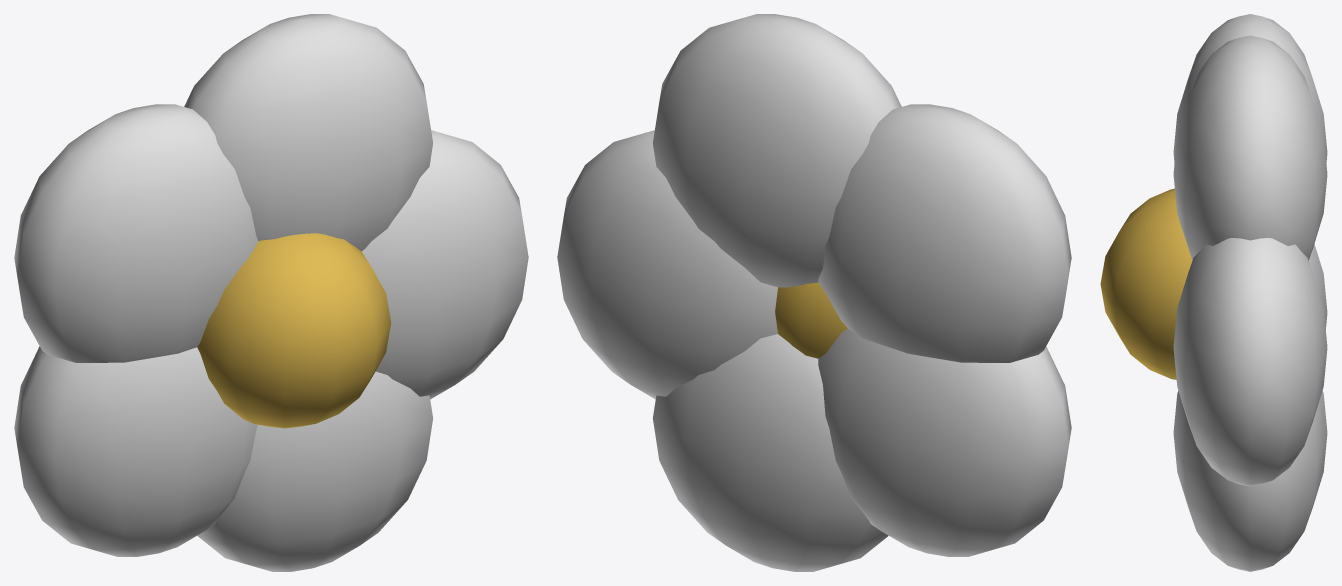
Rendered from char_acc_flower_ph.glb.
3 views of the same model, side by side, from view 1: azimuth 30°, elevation 25°; view 2: azimuth 150°, elevation 25°; view 3: azimuth 270°, elevation 25° (orthographic). The views are drawn at different scales.
Visible parts, largest first — view 1: acc_flower; view 2: acc_flower; view 3: acc_flower.
Part boxes in pixels (bbox=[...]): acc_flower: bbox=[14, 14, 528, 571]; acc_flower: bbox=[557, 14, 1071, 571]; acc_flower: bbox=[1100, 14, 1327, 571].
Size of the model in its own units: 0.1654 by 0.1696 by 0.0681.
